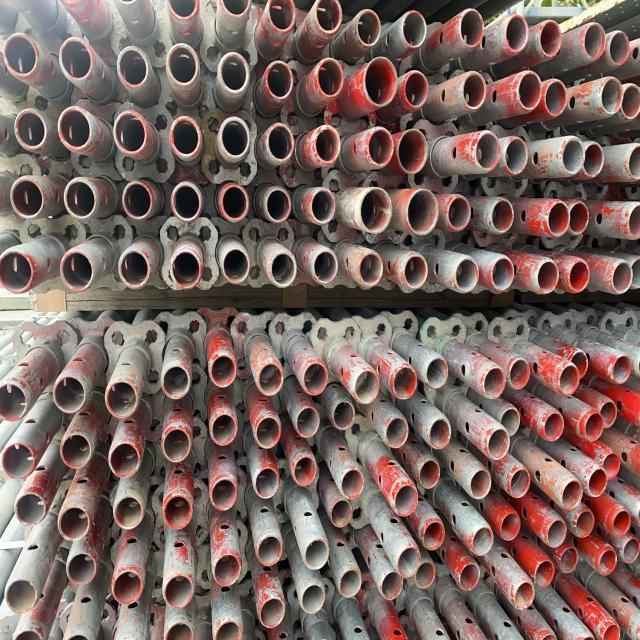pipe: (98, 366, 152, 426), (46, 97, 97, 160), (54, 242, 102, 308), (109, 240, 159, 299), (3, 166, 50, 228), (1, 242, 46, 306), (158, 39, 205, 100), (398, 183, 443, 246), (349, 182, 396, 242), (47, 364, 94, 424), (254, 238, 302, 296), (252, 126, 298, 186), (296, 126, 340, 188), (163, 240, 210, 298), (54, 30, 99, 90), (156, 177, 205, 232), (113, 172, 159, 230), (105, 42, 156, 94), (388, 0, 432, 60), (356, 56, 404, 111), (105, 117, 149, 177), (210, 176, 254, 236), (205, 121, 248, 182), (7, 100, 48, 163), (159, 122, 202, 182), (208, 46, 254, 102), (449, 64, 495, 120), (346, 243, 392, 299), (302, 238, 348, 294), (158, 352, 199, 414), (57, 171, 103, 226), (389, 134, 432, 192), (479, 248, 524, 303), (392, 242, 434, 300), (248, 350, 290, 408), (596, 250, 636, 310), (342, 361, 387, 414), (554, 250, 596, 306), (204, 343, 246, 399), (449, 3, 492, 57), (104, 558, 147, 612), (300, 181, 342, 236), (442, 248, 483, 304), (210, 239, 252, 293), (0, 566, 42, 620), (2, 28, 40, 87), (309, 50, 349, 106), (410, 510, 453, 562), (255, 181, 292, 240), (506, 67, 546, 121), (477, 190, 517, 244), (61, 540, 101, 594), (496, 456, 539, 506), (206, 546, 248, 597), (499, 344, 537, 400), (352, 133, 389, 190), (0, 374, 37, 431), (52, 430, 97, 476), (103, 437, 149, 482), (397, 65, 439, 114), (560, 194, 598, 248), (296, 352, 335, 404), (107, 490, 151, 536), (157, 486, 200, 533), (408, 454, 450, 502), (258, 56, 298, 106), (495, 2, 533, 54), (460, 460, 497, 513), (503, 572, 540, 625), (494, 138, 529, 194), (572, 12, 605, 71), (526, 251, 564, 302), (383, 362, 421, 413), (438, 189, 473, 244), (416, 351, 453, 403), (350, 0, 386, 53), (548, 468, 586, 518), (158, 564, 196, 614), (10, 486, 47, 537), (158, 422, 198, 468), (534, 12, 568, 66), (460, 135, 496, 186), (56, 498, 95, 545), (535, 76, 570, 128), (381, 476, 418, 525), (448, 558, 490, 601), (251, 525, 288, 573), (590, 72, 626, 121), (287, 453, 327, 497), (212, 0, 254, 41), (1, 436, 36, 485), (536, 196, 573, 242), (470, 359, 506, 406), (598, 346, 634, 393), (389, 536, 424, 584), (294, 533, 332, 577), (546, 143, 580, 192), (337, 454, 374, 499), (534, 406, 570, 452), (574, 144, 607, 194), (250, 458, 284, 506), (251, 595, 287, 640), (609, 198, 640, 250), (204, 469, 238, 516), (262, 0, 298, 44), (548, 359, 584, 403), (528, 550, 562, 596), (576, 463, 612, 506), (207, 408, 242, 452), (252, 407, 284, 455), (380, 410, 412, 458), (310, 0, 347, 41), (476, 424, 512, 466), (328, 571, 364, 613), (463, 522, 497, 566), (610, 148, 640, 197), (554, 541, 588, 584), (604, 24, 632, 76), (592, 448, 627, 489), (324, 493, 358, 535), (291, 403, 324, 446), (610, 80, 640, 127), (578, 406, 608, 452), (598, 396, 632, 436), (588, 540, 620, 581), (423, 415, 454, 457), (298, 589, 328, 632), (160, 0, 201, 30), (538, 510, 568, 550), (373, 578, 404, 616), (498, 406, 528, 444), (330, 400, 358, 438), (410, 566, 438, 604), (603, 504, 630, 542), (214, 609, 247, 640), (570, 345, 596, 383), (614, 531, 640, 569), (572, 504, 598, 540), (162, 618, 202, 640), (594, 618, 622, 640), (629, 253, 640, 304), (626, 354, 640, 390), (16, 629, 41, 640), (68, 631, 90, 640)
